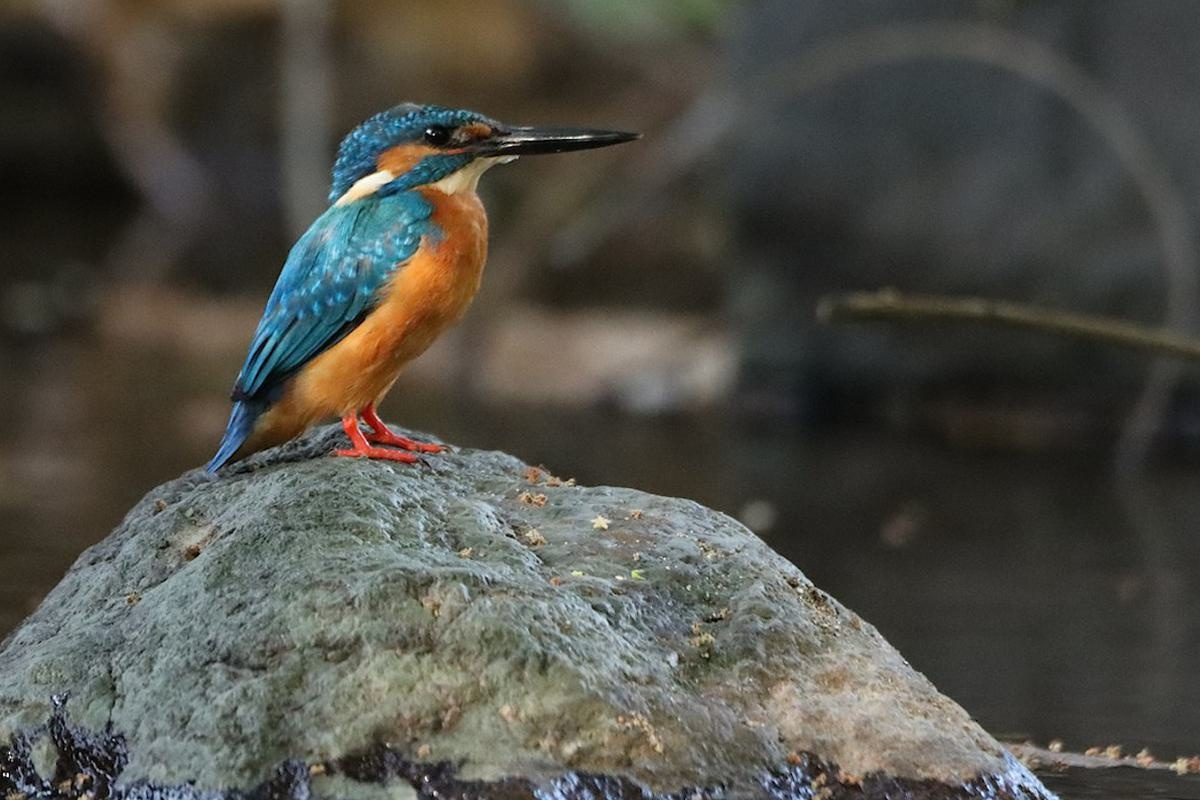kingfisher: (220, 61, 628, 500)
